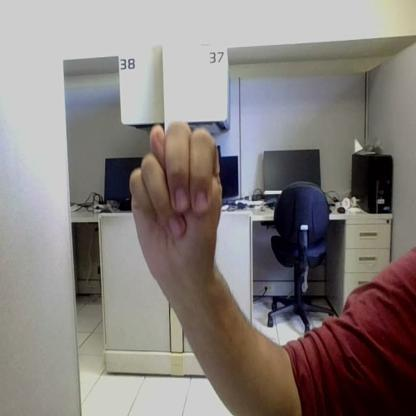N: (130, 122, 222, 267)
